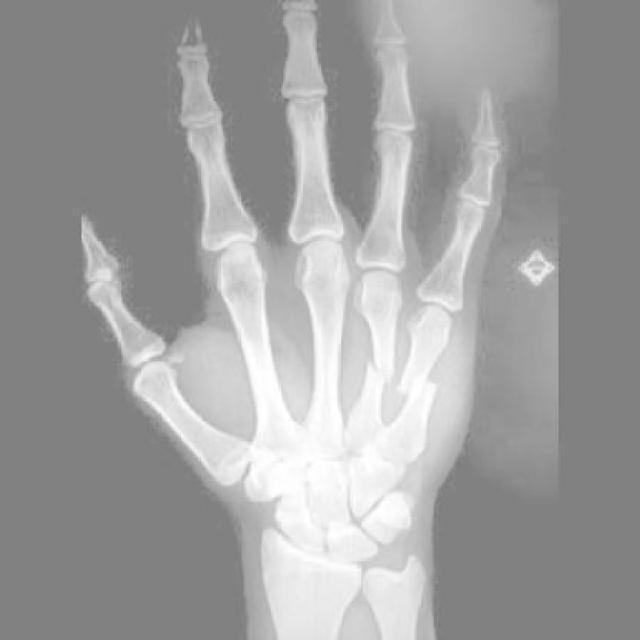Fracture: (394, 368, 442, 406), (365, 357, 407, 393)
